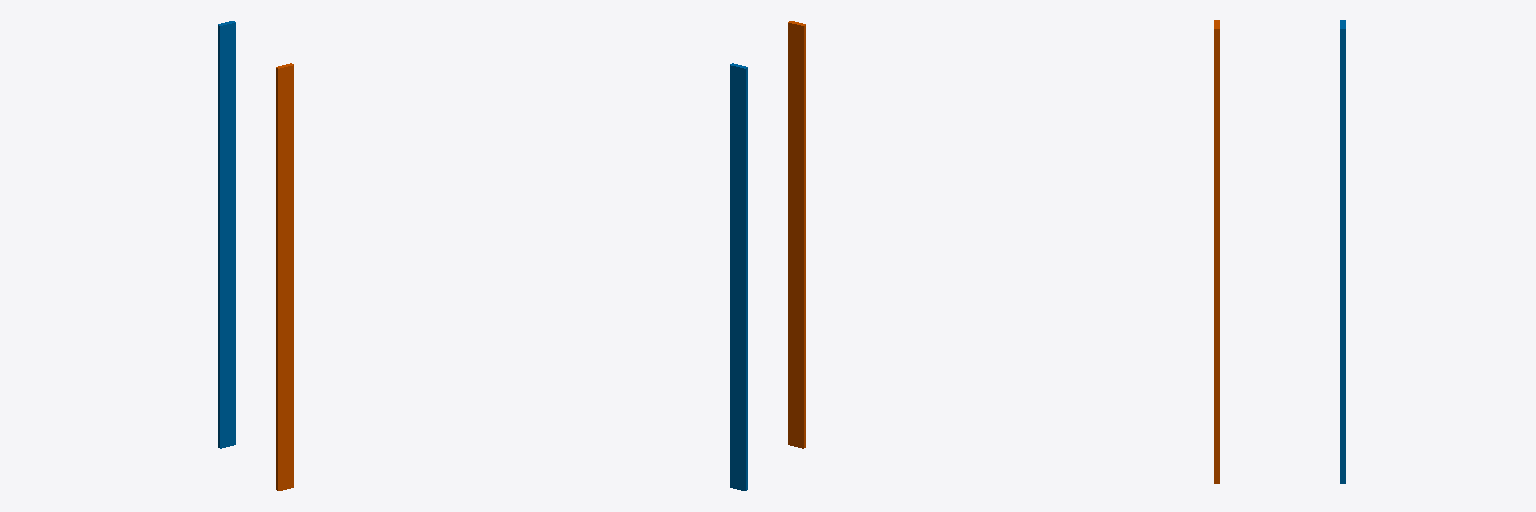
URDF robot description (gripper):
<?xml version="1.0" ?>
<robot name="gripper">
  <link name="base_link">
  <inertial>
      <mass value="0.05" />
      <inertia ixx="0.000016667" ixy="0" ixz="0" iyy="0.000016667" iyz="0" izz="0.000016667" />
    </inertial>
    <visual>
      <geometry>
        <box size="0.0 0.0 0.0"/>
      </geometry>
    </visual>
  </link>

  <link name="link1">
  <inertial>
      <mass value="0.05" />
      <inertia ixx="0.000016667" ixy="0" ixz="0" iyy="0.000016667" iyz="0" izz="0.000016667" />
    </inertial>
    <visual>
      <geometry>
        <box size="0.0 0.0 0.0"/>
      </geometry>
    </visual>
  </link>

  <joint name="joint1" type="prismatic">
    <parent link="base_link"/>
    <child link="link1"/>
    <axis xyz="1 0 0"/>
    <dynamics damping="10.0"/>
    <limit effort="10" lower="-10" upper="10" velocity="10"/>
  </joint>

  <link name="link2">
  <inertial>
      <mass value="0.05" />
      <inertia ixx="0.000016667" ixy="0" ixz="0" iyy="0.000016667" iyz="0" izz="0.000016667" />
    </inertial>
    <visual>
      <geometry>
        <box size="0.0 0.0 0.0"/>
      </geometry>
    </visual>
    </link>

 <joint name="joint2" type="prismatic">
 <origin rpy="0 0 0" xyz="0 0 0"/>
    <parent link="link1"/>
    <child link="link2"/>
    <axis xyz="0 1 0"/>
    <dynamics damping="10.0"/>
    <limit effort="10" lower="-10" upper="10" velocity="10"/>
  </joint>

  <link name="eef">
  <inertial>
      <mass value="0.05" />
      <inertia ixx="0.000016667" ixy="0" ixz="0" iyy="0.000016667" iyz="0" izz="0.000016667" />
    </inertial>
    <visual>
      <geometry>
        <box size="0.0 0.0 0.0"/>
      </geometry>
    </visual>
    </link>

 <joint name="joint3" type="revolute">
    <safety_controller k_position="100.0" k_velocity="40.0" soft_lower_limit="-2.8973" soft_upper_limit="2.8973"/>
    <parent link="link2"/>
    <child link="eef"/>
    <axis xyz="0 0 1"/>
    <dynamics damping="10.0"/>
    <limit effort="10" lower="-10" upper="10" velocity="10"/>
  </joint>



  <link name="left_finger">
  <inertial>
      <mass value="0.05" />
      <inertia ixx="0.000585417" ixy="0" ixz="0" iyy="0.000092417" iyz="0" izz="0.000573667" />
    </inertial>
    <visual>
    <geometry>
        <box size="0.008 0.0022 0.2"/>
    </geometry>
    </visual>
    <collision>
    <geometry>
        <box size="0.008 0.0022 0.2"/>
    </geometry>
    </collision>
  </link>

  <link name="right_finger">
  <inertial>
      <mass value="0.05" />
      <inertia ixx="0.000585417" ixy="0" ixz="0" iyy="0.000092417" iyz="0" izz="0.000573667" />
    </inertial>
    <visual>
      <geometry>
          <box size="0.008 0.0022 0.2"/>
      </geometry>
    </visual>
    <collision>
    <geometry>
        <box size="0.008 0.0022 0.2"/>
    </geometry>
    </collision>
  </link>

 <joint name="joint4" type="fixed">
    <origin rpy="0 0 0" xyz="0 0.025 0.105"/>
    <parent link="eef"/>
    <child link="left_finger"/>
    <axis xyz="1 0 0"/>
    <dynamics damping="10.0"/>
    <limit effort="20" lower="0.0" upper="0.04" velocity="0.2"/>
  </joint>
  
  <joint name="joint5" type="fixed">
    <origin rpy="0 0 0" xyz="0 -0.025 0.105"/>
    <parent link="eef"/>
    <child link="right_finger"/>
    <axis xyz="-1 0 0"/>
    <dynamics damping="10.0"/>
    <limit effort="20" lower="0.0" upper="0.04" velocity="0.2"/>
  </joint>
</robot>

--- What the picture shows (computed from the rendered views, not written in the file) ---
The picture shows the robot from 3 angles, left to right: view 1: azimuth 30°, elevation 25°; view 2: azimuth 150°, elevation 25°; view 3: azimuth 270°, elevation 25°; orthographic projection.
Robot: gripper — 6 links, 5 joints (1 revolute, 2 prismatic, 2 fixed); root link base_link; default pose: every joint at zero.
Visible links, largest first — view 1: left_finger, right_finger; view 2: left_finger, right_finger; view 3: left_finger, right_finger.
Boxes of the visible links, x1,y1,x2,y2 form: left_finger: (218,21,235,448); right_finger: (276,63,293,490); left_finger: (730,63,747,490); right_finger: (788,21,805,448); left_finger: (1340,20,1345,483); right_finger: (1214,20,1219,483).
Size in the robot's own frame: 0.008 by 0.0522 by 0.205 metres.
Geometry: primitives only (box / cylinder / sphere), no mesh files.